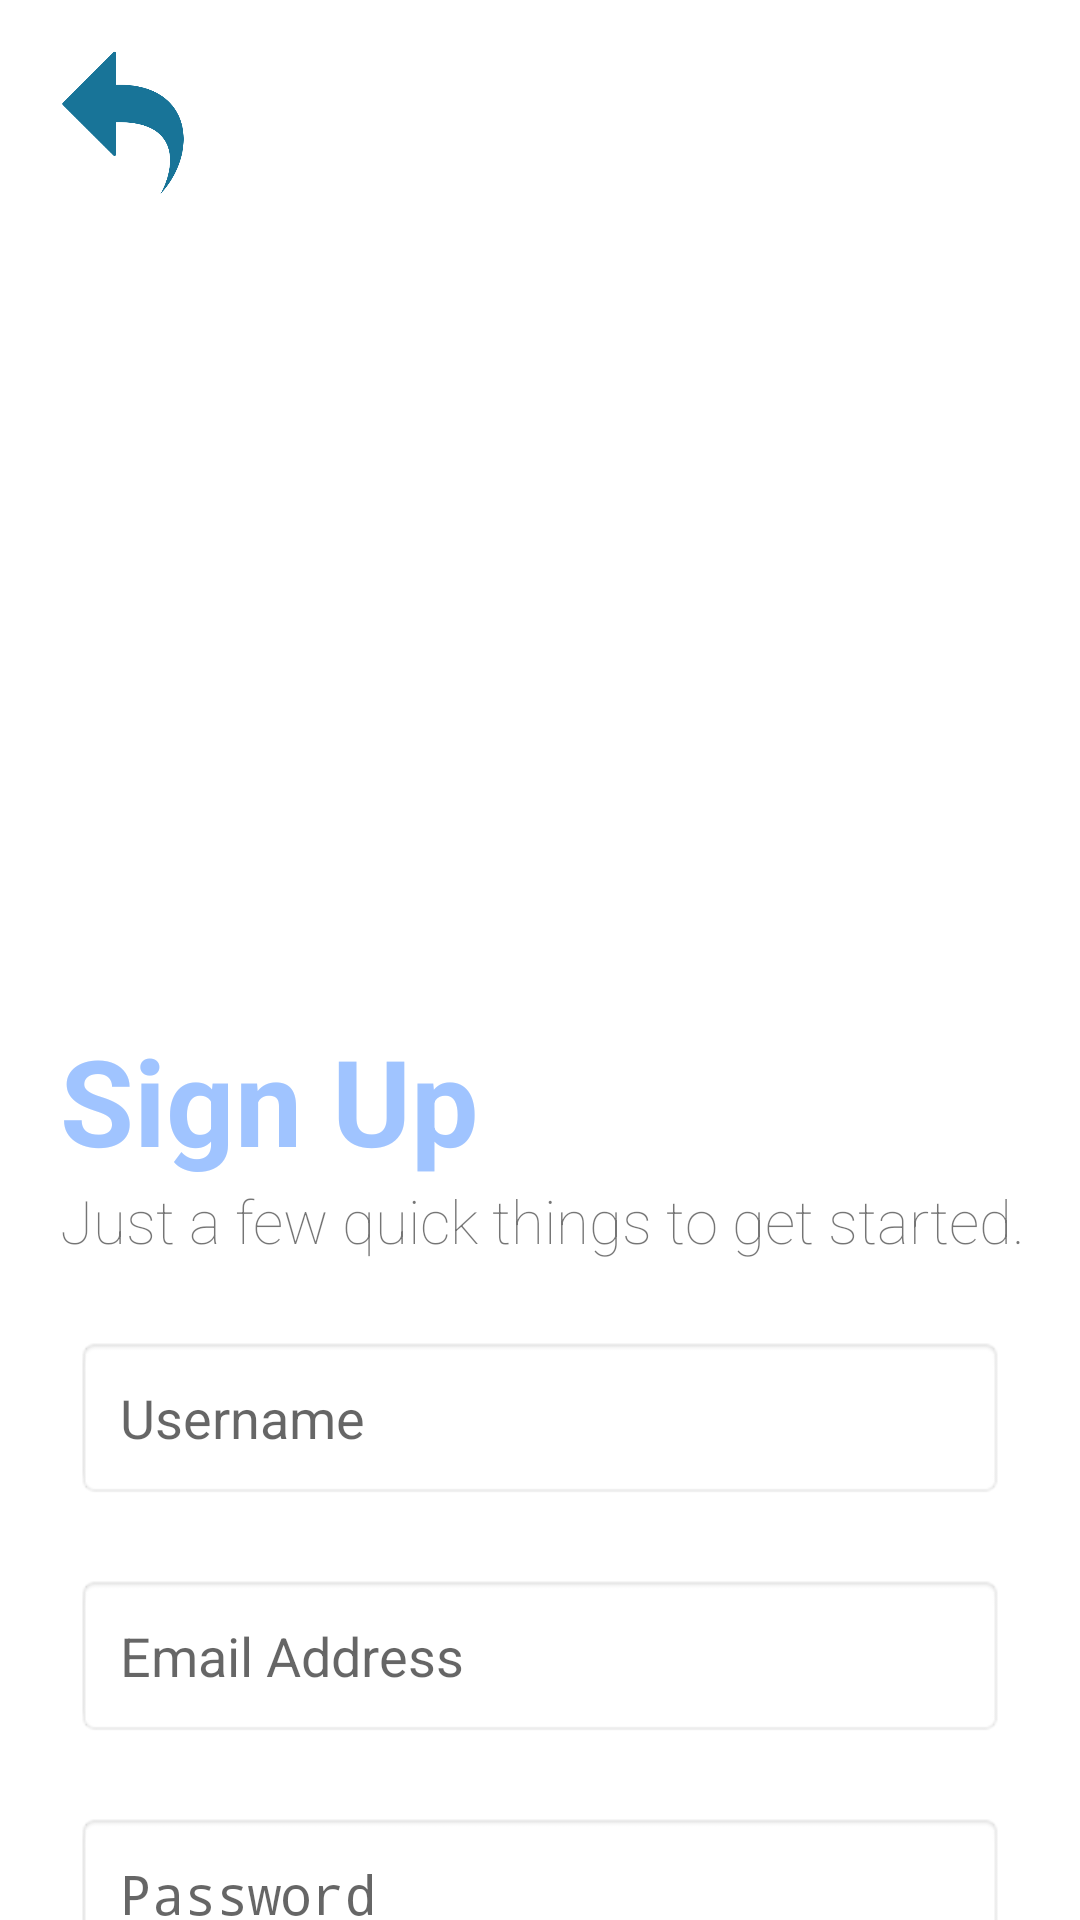

Where to tap for icons on this 1080px×1920px app screen, as (x=x, y=y):
Back: (x=123, y=123)
